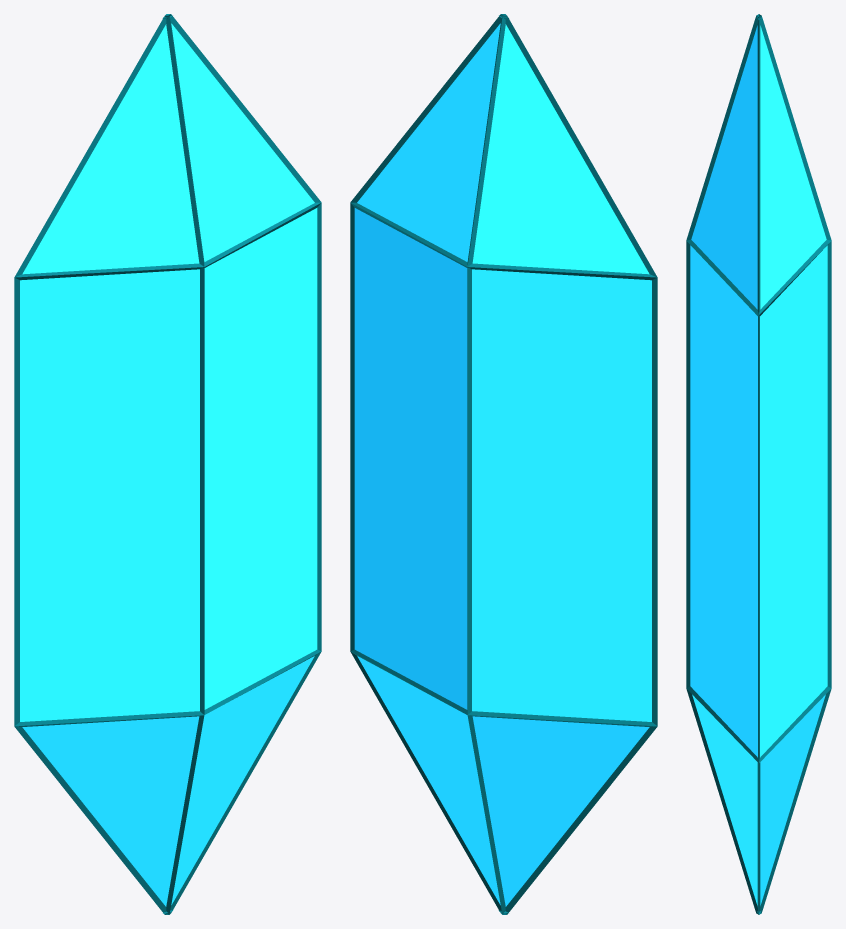
Rendered from crystal.fbx.
3 renders of one model, left to right at view 1: azimuth 30°, elevation 25°; view 2: azimuth 150°, elevation 25°; view 3: azimuth 270°, elevation 25°, orthographic.
Visible parts, largest first — view 1: crystal, crystal_frame; view 2: crystal, crystal_frame; view 3: crystal, crystal_frame.
Part boxes in pixels (<box>): crystal: <box>20,23,317,906</box>; crystal_frame: <box>14,14,321,914</box>; crystal: <box>354,23,651,906</box>; crystal_frame: <box>350,14,657,914</box>; crystal: <box>690,25,827,905</box>; crystal_frame: <box>686,14,831,914</box>.
Bounding box in the file's own units: 86.3 × 241 × 35.43.
